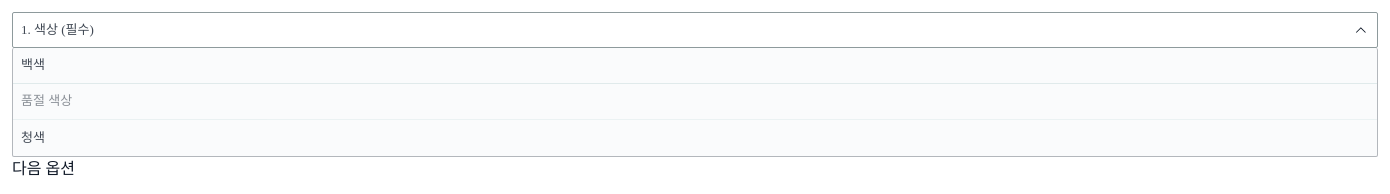
Test: OptionSelect › 바깥을 누르면 닫는다
Click the text "다음 옵션" at (43, 168), box [12,160,75,177]
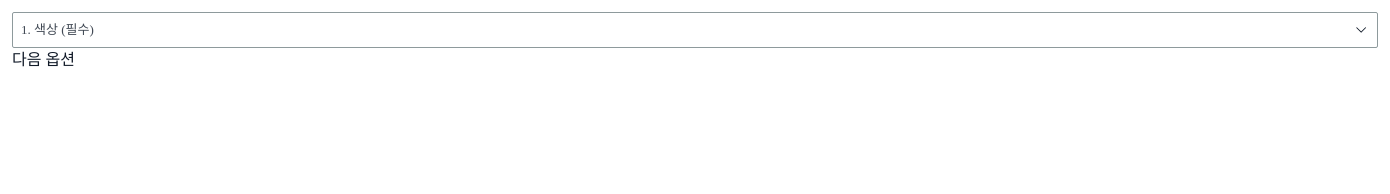
Now the list is gone
